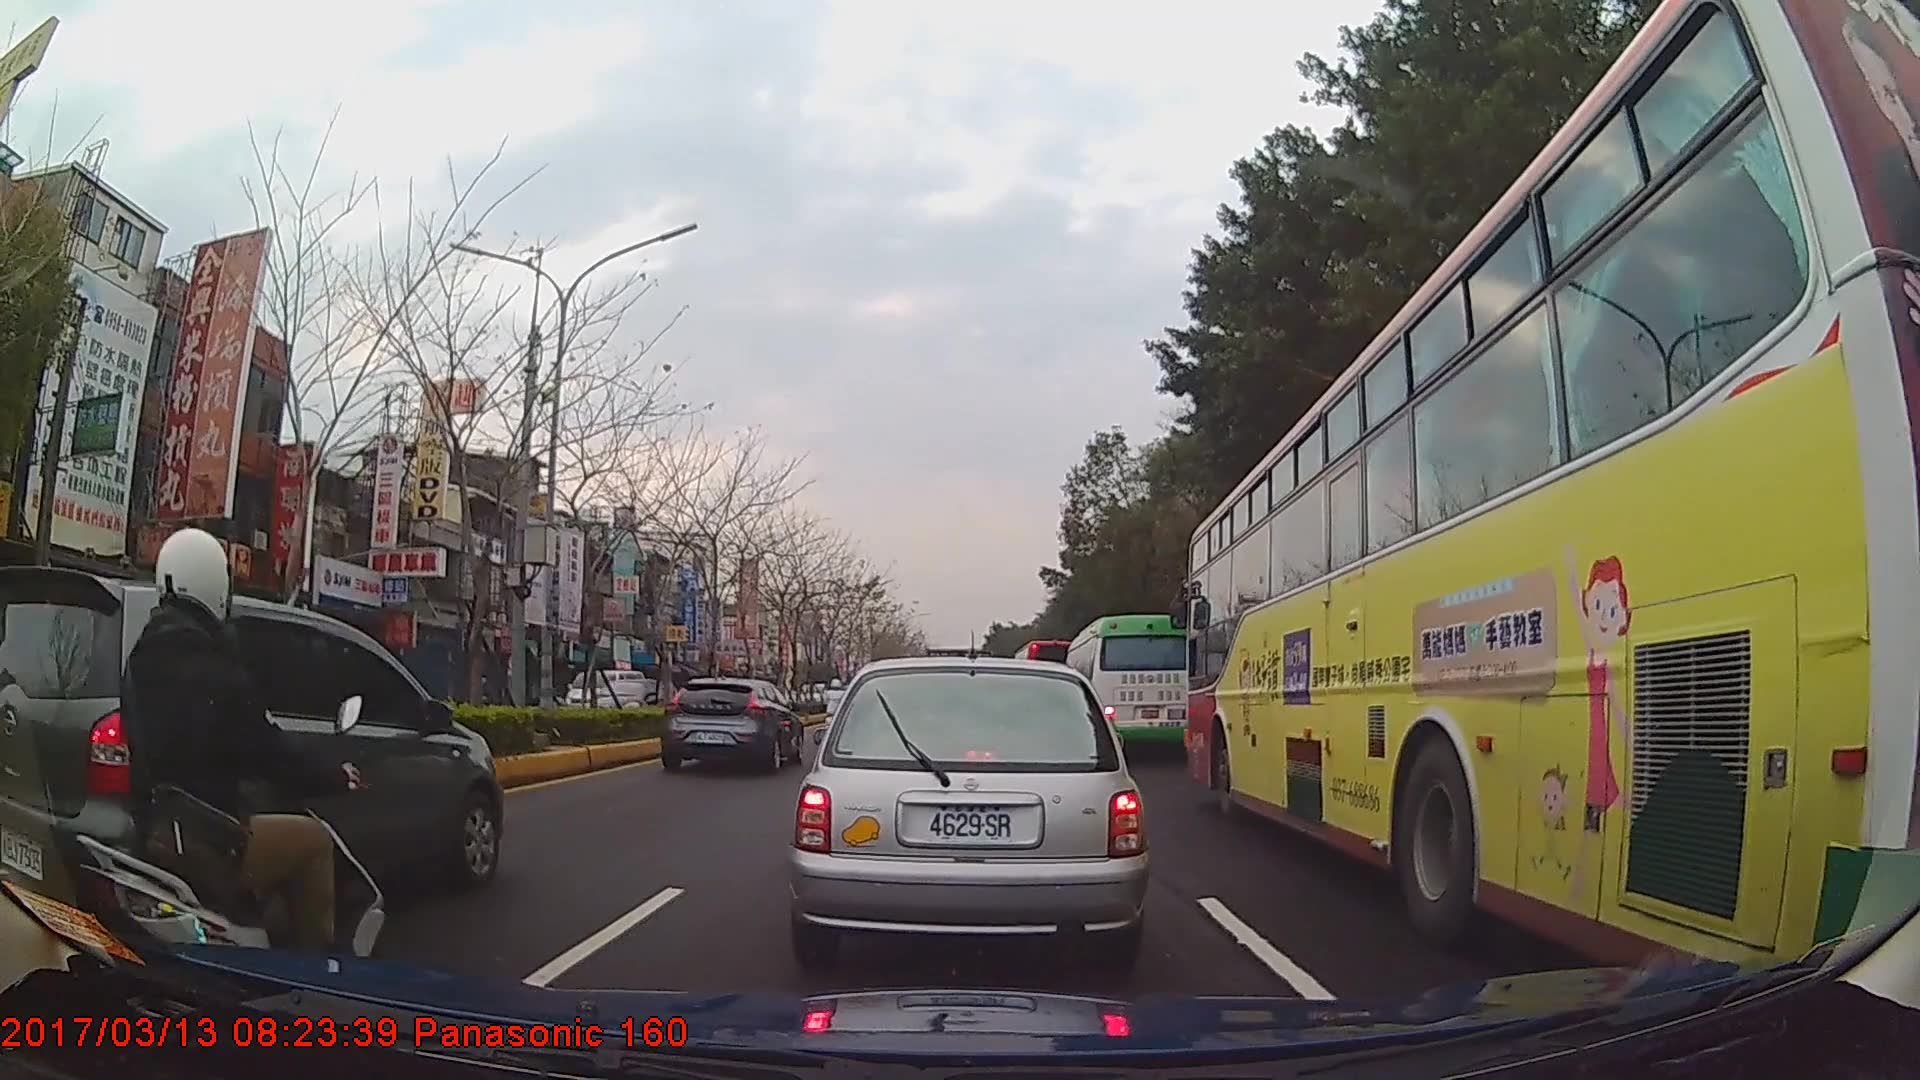rider: (75, 524, 381, 1024), (822, 677, 851, 742)
vehicle: (1186, 0, 1920, 985), (11, 564, 503, 929), (791, 652, 1149, 975), (1061, 612, 1196, 760), (656, 671, 803, 775), (580, 677, 673, 725)
